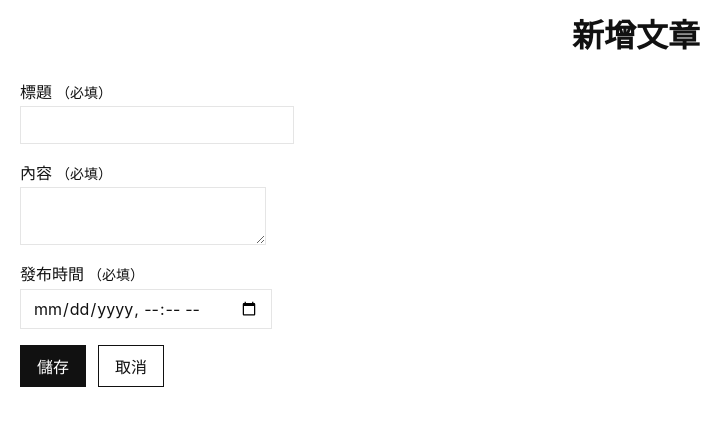
Test case: ArticleForm › AC7: 內容留空送出時顯示「請輸入內容」錯誤,不導向,已填寫的其他欄位保留
Expected: the heading "新增文章" is shown, x1=572 y1=16 x2=700 y2=55
Type "我的標題" into the field labelled "標題".
click(157, 125); type("我的標題")  # box x1=20 y1=106 x2=294 y2=144
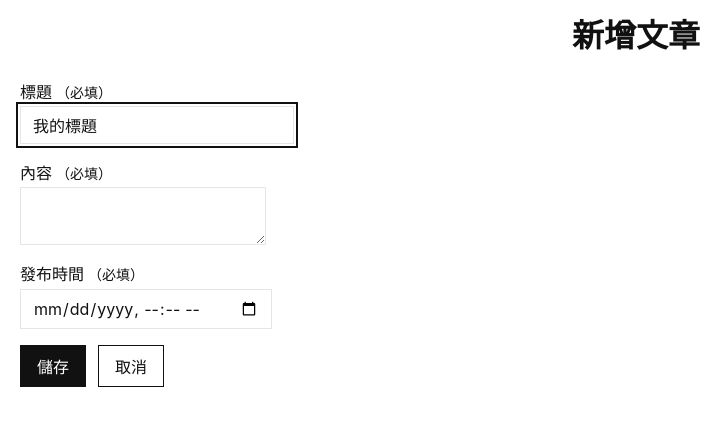
Type "2026-08-13T10:00" into the field labelled "發布時間".
click(146, 309); type("2026-08-13T10:00")  # box x1=20 y1=289 x2=272 y2=329
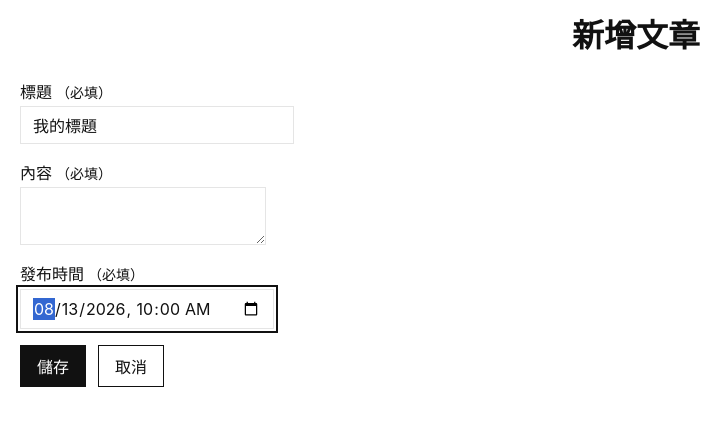
Click the button "儲存".
click(53, 366)  # box x1=20 y1=345 x2=86 y2=387
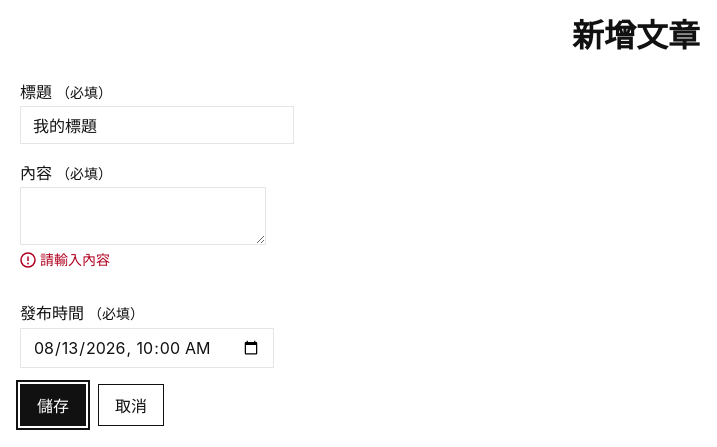
Expected: the heading "新增文章" is shown, x1=572 y1=16 x2=700 y2=55
Expected: the message reads "請輸入內容", x1=40 y1=251 x2=110 y2=268
